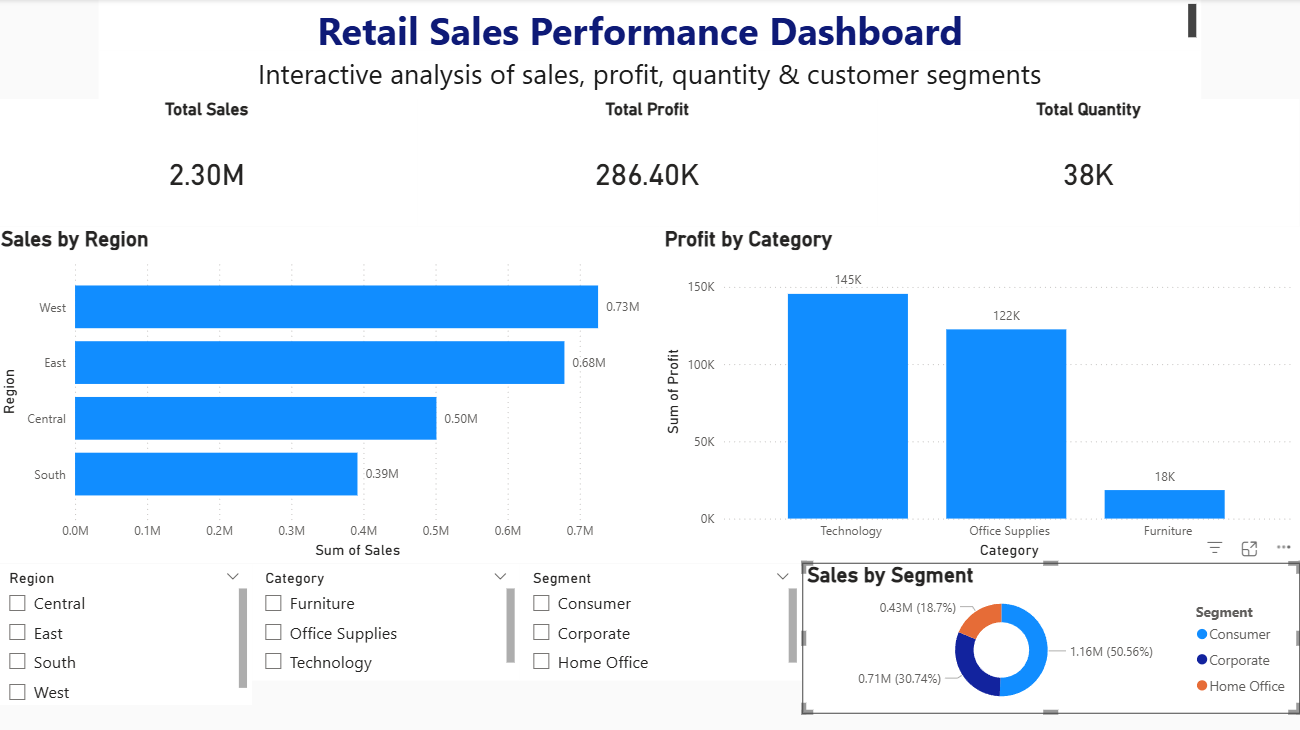

Layout of this report page (visuals, bound fields, positions):
{"tool":"powerbi","page":{"name":"Page 1","canvas":[1280,720],"ordinal":0},"visuals":[{"type":"card","title":"Total Profit","fields":{"Values":["Sum(SampleSuperstore.Profit)"]},"box":[413.5,98.2,451.5,125.2],"z":0},{"type":"card","title":"Total Quantity","fields":{"Values":["Sum(SampleSuperstore.Quantity)"]},"box":[865,98.2,414.7,125.2],"z":1000},{"type":"clusteredBarChart","title":" Sales by Region","fields":{"Category":["SampleSuperstore.Region"],"Y":["Sum(SampleSuperstore.Sales)"]},"box":[0,223.7,651.8,330.7],"z":2000},{"type":"clusteredColumnChart","title":" Profit by Category","fields":{"Category":["SampleSuperstore.Category"],"Y":["Sum(SampleSuperstore.Profit)"]},"box":[651.8,223.7,628.5,330.7],"z":3000},{"type":"donutChart","title":" Sales by Segment","fields":{"Category":["SampleSuperstore.Segment"],"Y":["Sum(SampleSuperstore.Sales)"]},"box":[791.4,553.4,488.3,148.5],"z":4000},{"type":"slicer","fields":{"Values":["SampleSuperstore.Region"]},"box":[0,554.6,251.5,138.7],"z":5000},{"type":"slicer","fields":{"Values":["SampleSuperstore.Category"]},"box":[251.5,554.6,262.6,114.1],"z":6000},{"type":"slicer","fields":{"Values":["SampleSuperstore.Segment"]},"box":[514.1,554.6,277.3,114.1],"z":7000},{"type":"card","title":"Total Sales","fields":{"Values":["Sum(SampleSuperstore.Sales)"]},"box":[0,98.2,413.5,125.2],"z":8000},{"type":"textbox","box":[100.6,0,1082.2,50.3],"z":9000},{"type":"textbox","box":[100.6,50.3,1082.2,47.9],"z":10000}]}

Visuals, with their boxes in screenshot pixels (x1, y1, x2, y2), scaled from the page's 1280x720 canvas onto the 1300x730 screenshot:
"Total Profit" card: box=[420, 100, 879, 227]
"Total Quantity" card: box=[879, 100, 1299, 227]
" Sales by Region" clusteredBarChart: box=[0, 227, 662, 562]
" Profit by Category" clusteredColumnChart: box=[662, 227, 1299, 562]
" Sales by Segment" donutChart: box=[804, 561, 1299, 712]
slicer - SampleSuperstore.Region: box=[0, 562, 255, 703]
slicer - SampleSuperstore.Category: box=[255, 562, 522, 678]
slicer - SampleSuperstore.Segment: box=[522, 562, 804, 678]
"Total Sales" card: box=[0, 100, 420, 227]
textbox: box=[102, 0, 1201, 51]
textbox: box=[102, 51, 1201, 100]
